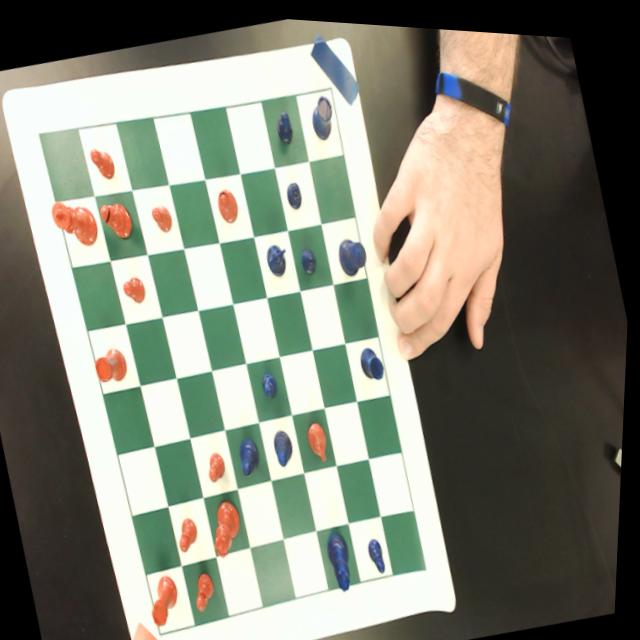B: (237, 429, 267, 474), (273, 423, 300, 464)
K: (334, 227, 373, 275)
N: (261, 234, 294, 279)
P: (368, 529, 393, 571), (271, 103, 296, 142), (297, 238, 321, 272), (284, 175, 306, 207), (261, 364, 283, 396)
Q: (326, 525, 362, 587)
R: (304, 86, 340, 139), (359, 338, 390, 379)
b: (98, 196, 137, 242), (215, 183, 242, 221)
k: (48, 189, 103, 251)
n: (305, 412, 335, 460)
p: (192, 565, 224, 611), (88, 142, 118, 181), (177, 511, 206, 551), (121, 271, 150, 305), (206, 446, 232, 480), (150, 199, 175, 233)
q: (206, 493, 252, 555)
r: (147, 568, 189, 626), (93, 342, 132, 384)
